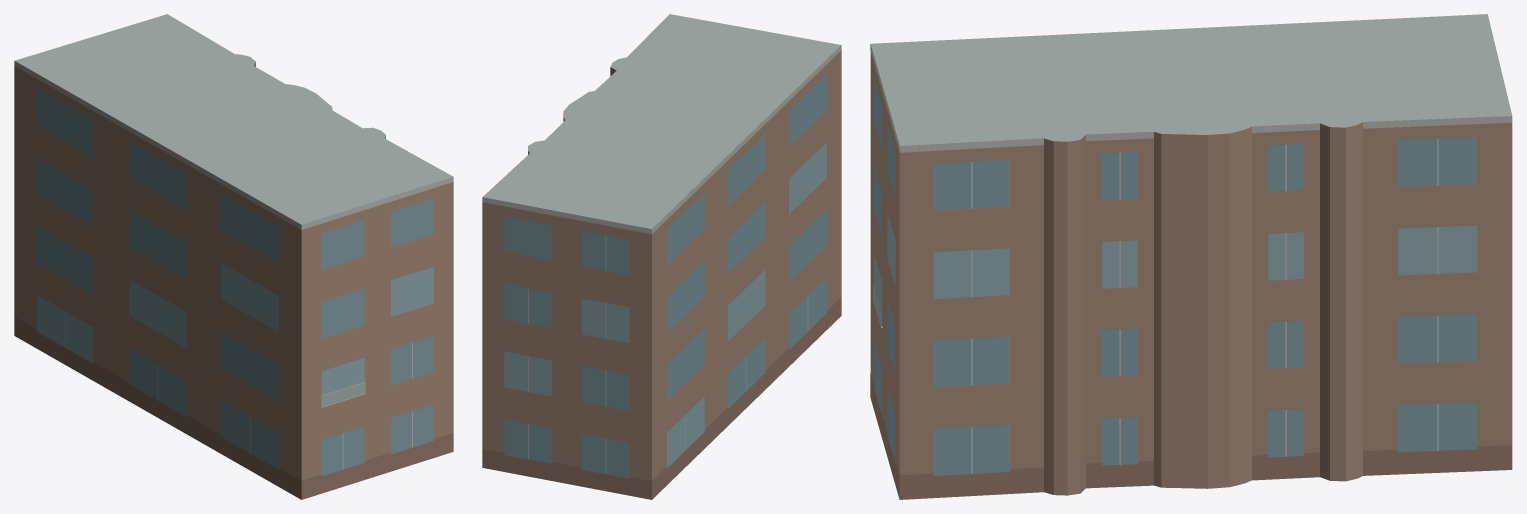
Rendered from survey-upis-32707029.glb.
3 views of the same model, side by side, from view 1: azimuth 30°, elevation 25°; view 2: azimuth 150°, elevation 25°; view 3: azimuth 270°, elevation 25° (orthographic). The views are drawn at different scales.
Parts seen in each view (by area): view 1: survey-upis-32707029.tmp; view 2: survey-upis-32707029.tmp; view 3: survey-upis-32707029.tmp.
Part boxes in pixels (left/top/right/bottom): survey-upis-32707029.tmp: left=14, top=14, right=453, bottom=499; survey-upis-32707029.tmp: left=482, top=14, right=841, bottom=499; survey-upis-32707029.tmp: left=870, top=14, right=1512, bottom=499.
Size of the model in its own units: 10.34 by 12.9 by 21.22.
